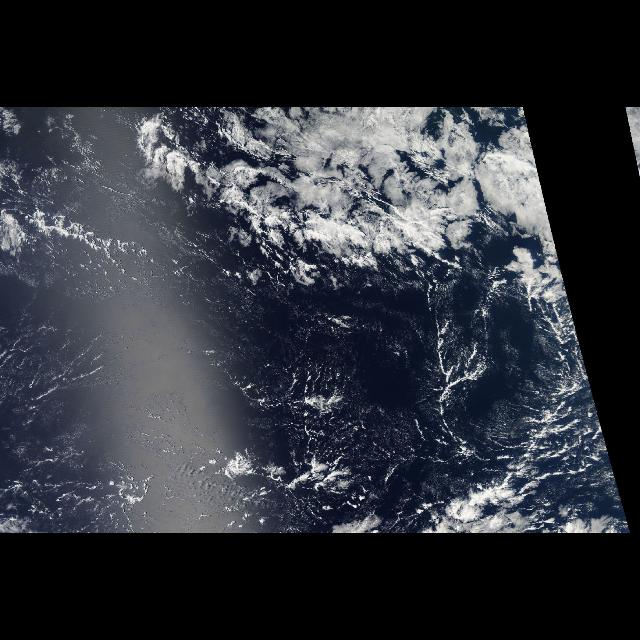Flower: (128, 128, 476, 282)
Gravel: (226, 294, 514, 514)
Sugar: (0, 314, 478, 534)
